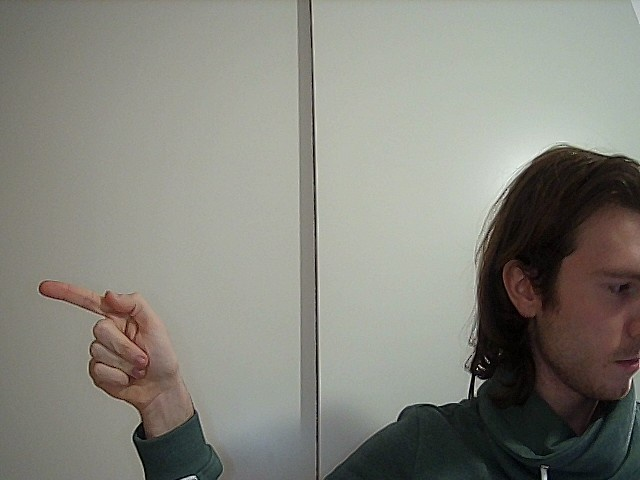g: (29, 263, 201, 418)
